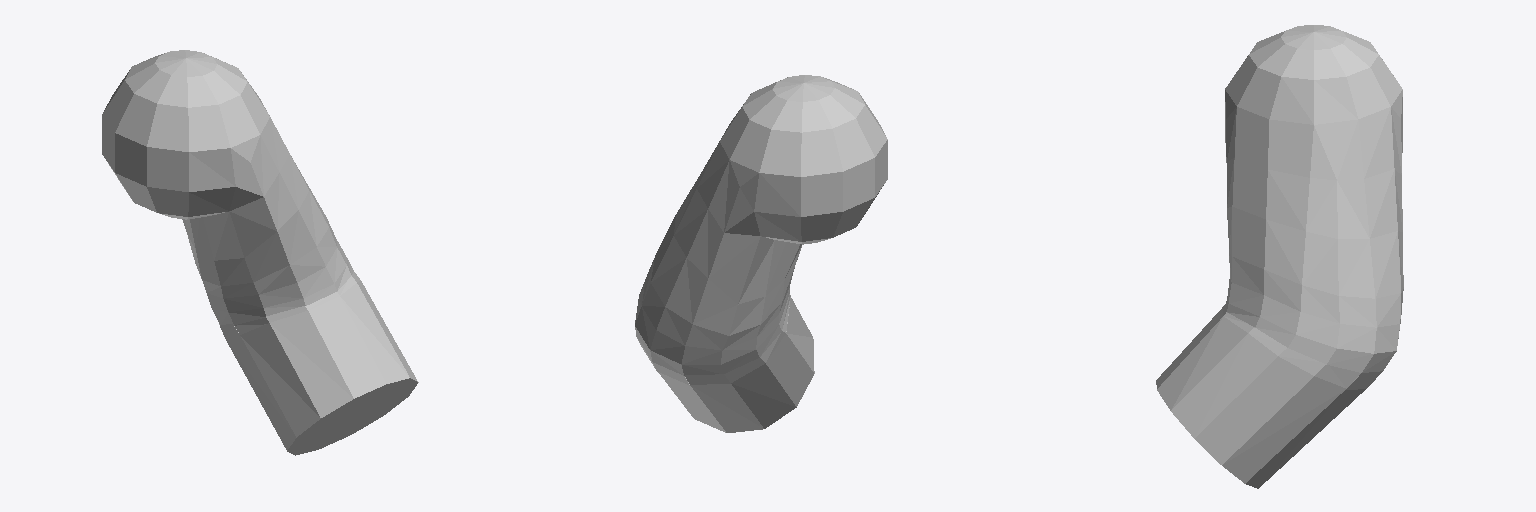
The model's file is anakinGhostLightSaberLeftArm.obj.
3 views of the same model, side by side, from view 1: azimuth 30°, elevation 25°; view 2: azimuth 150°, elevation 25°; view 3: azimuth 270°, elevation 25° (orthographic).
Visible parts, largest first — view 1: Mesh_0146.001_Mesh_0146Mesh.001; view 2: Mesh_0146.001_Mesh_0146Mesh.001; view 3: Mesh_0146.001_Mesh_0146Mesh.001.
Boxes of the visible parts, x1,y1,x2,y2 form: Mesh_0146.001_Mesh_0146Mesh.001: [102, 50, 418, 455]; Mesh_0146.001_Mesh_0146Mesh.001: [635, 75, 887, 432]; Mesh_0146.001_Mesh_0146Mesh.001: [1156, 25, 1403, 488].
Size of the model in its own units: 0.077 by 0.1175 by 0.0664.